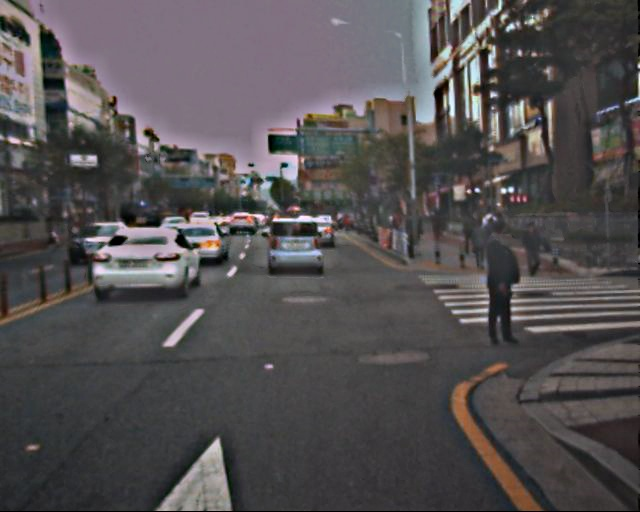person: (472, 222, 522, 344), (479, 206, 501, 260), (520, 222, 542, 276), (469, 218, 490, 268), (457, 209, 475, 254)
